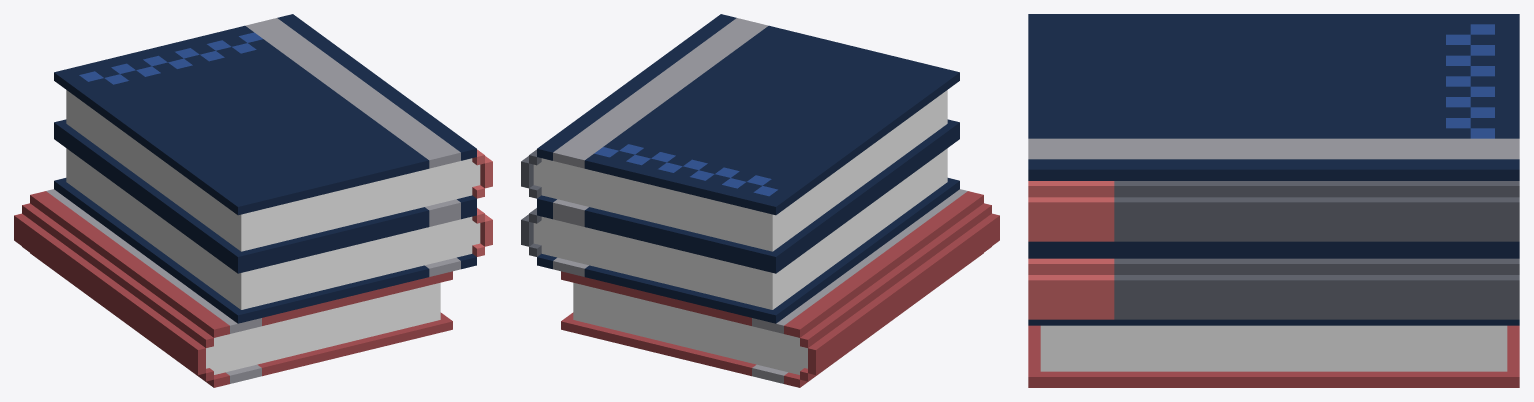
Rendered from Book03.fbx.
3 renders of one model, left to right at view 1: azimuth 30°, elevation 25°; view 2: azimuth 150°, elevation 25°; view 3: azimuth 270°, elevation 25°, orthographic. The views are drawn at different scales.
Parts seen in each view (by area): view 1: Book03; view 2: Book03; view 3: Book03.
Part boxes in pixels (box(x1,y1,x2,y2)): Book03: box(14, 14, 492, 387); Book03: box(521, 14, 999, 387); Book03: box(1028, 14, 1519, 387).
Bounding box in the file's own units: 231 × 131 × 250.
